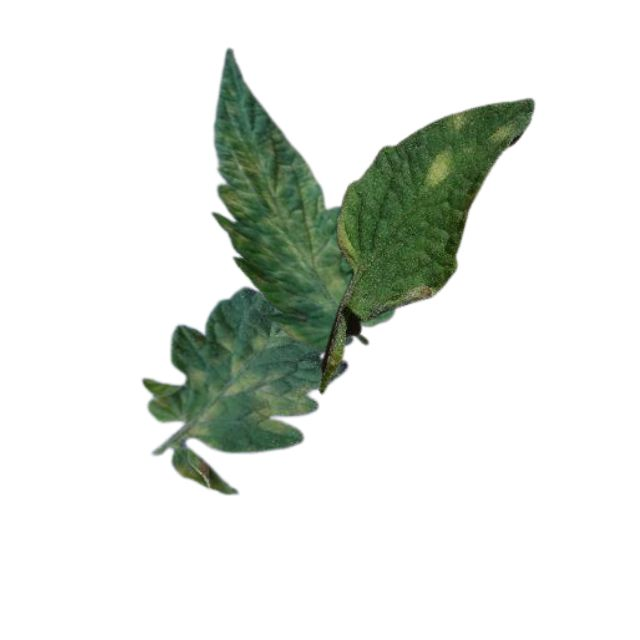Leaf_Mold: (210, 48, 350, 319), (190, 320, 316, 436), (380, 285, 439, 307), (419, 152, 452, 188), (488, 115, 516, 146)
